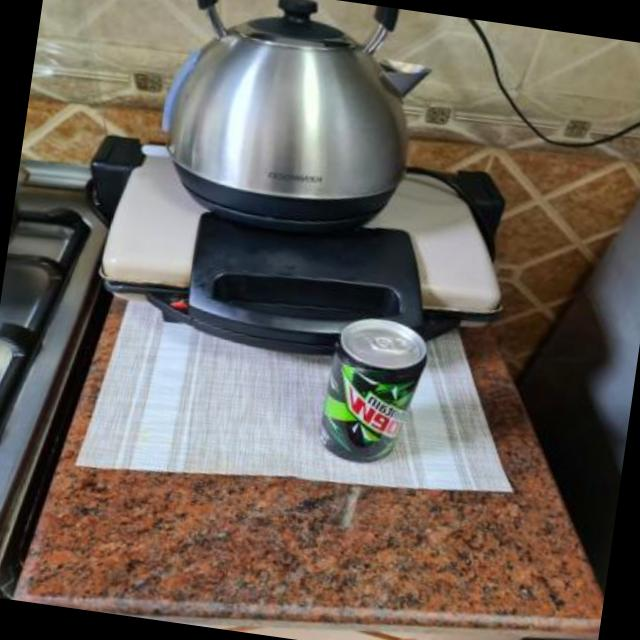metal: (322, 318, 426, 461)
